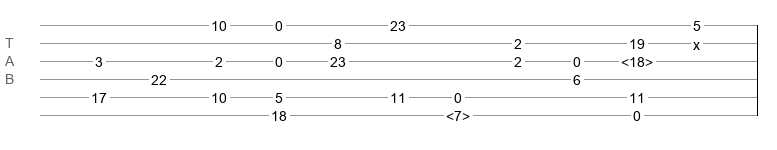0: (275, 54, 283, 64), (275, 18, 283, 28), (454, 90, 462, 100), (573, 54, 581, 64), (633, 108, 641, 118)
10: (211, 90, 227, 100), (211, 18, 227, 28)
11: (390, 90, 406, 100), (629, 90, 645, 100)
17: (91, 90, 107, 100)
18: (271, 108, 287, 118)
19: (629, 36, 645, 46)
2: (215, 54, 223, 64), (514, 36, 522, 46), (514, 54, 522, 64)
22: (151, 72, 167, 82)
23: (330, 54, 346, 64), (390, 18, 406, 28)
3: (95, 54, 103, 64)
5: (275, 90, 283, 100), (693, 18, 701, 28)
6: (573, 72, 581, 82)
8: (334, 36, 342, 46)
harmonic: (621, 54, 653, 64), (446, 108, 470, 118)
x: (693, 37, 700, 45)
